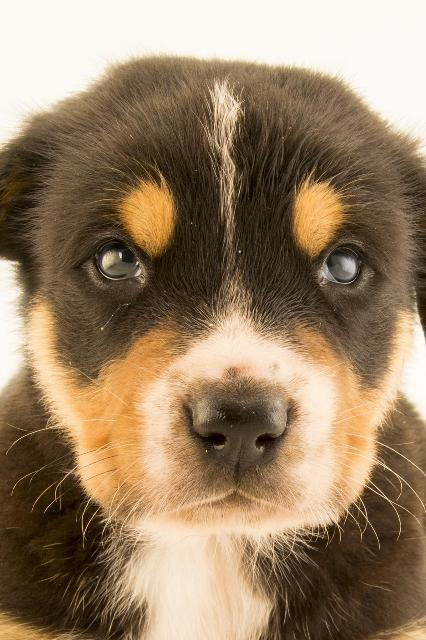dog: (5, 61, 426, 637)
